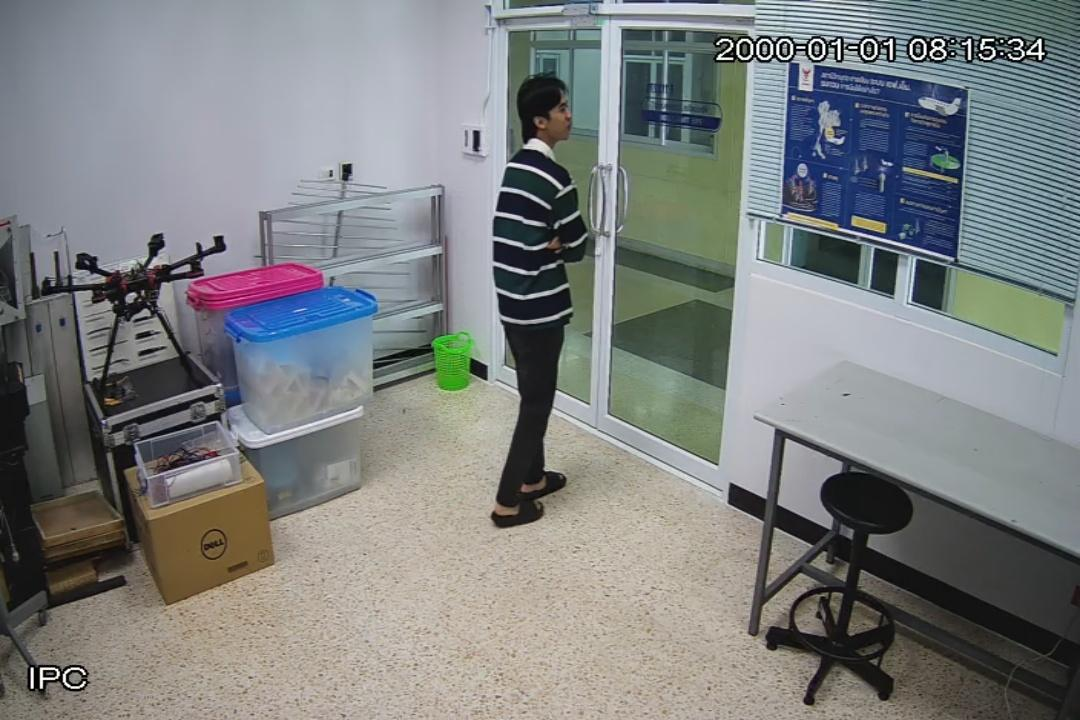normal: (487, 69, 590, 531)
